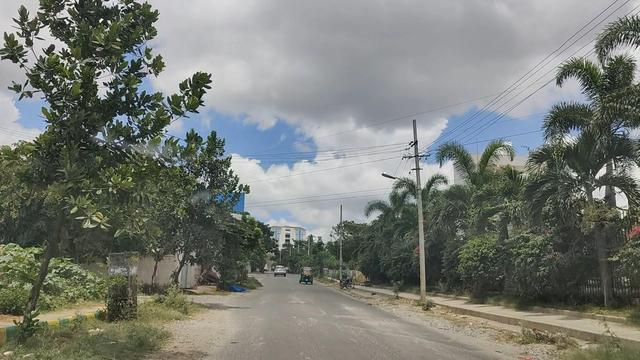RoadDamages: (293, 302, 410, 344)
